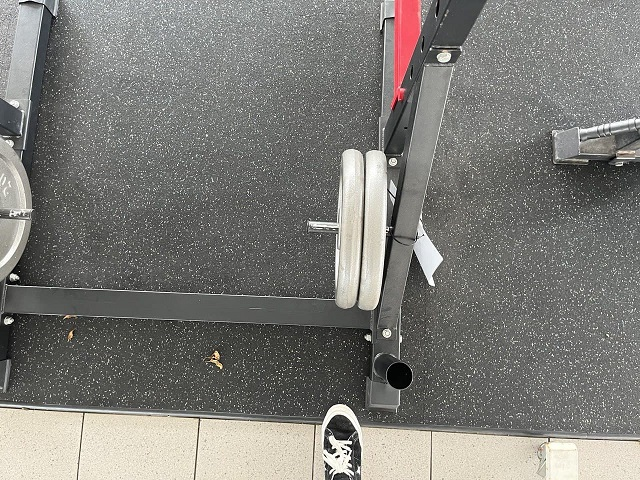weights: (355, 147, 389, 312), (333, 146, 364, 310)
